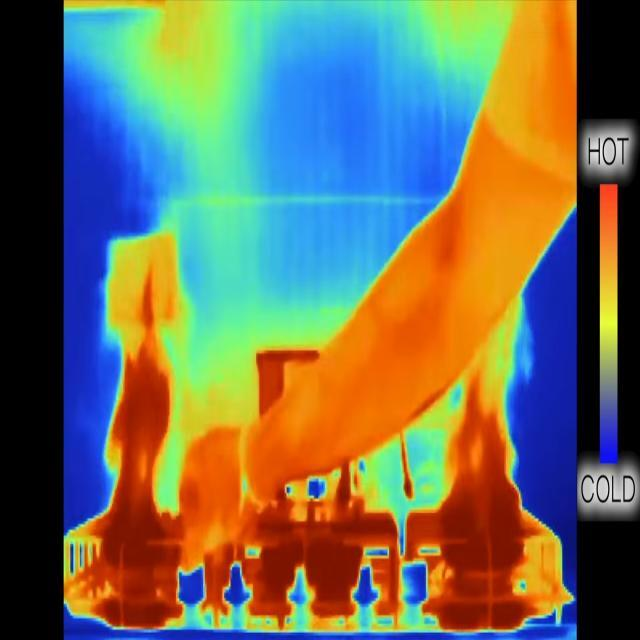fire: (405, 475, 565, 629), (206, 513, 401, 629), (66, 472, 178, 634)
